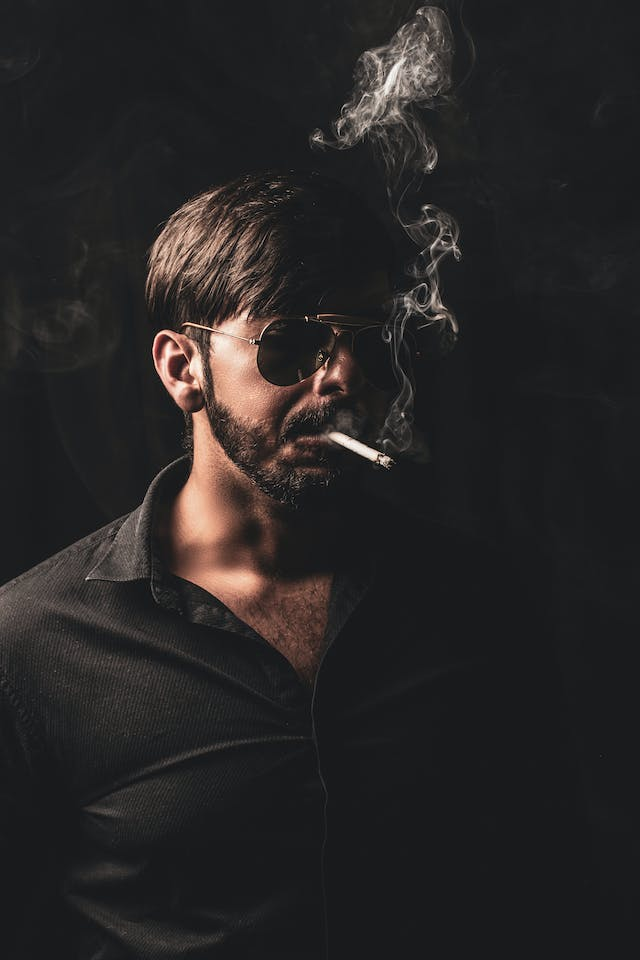Cigarette: (327, 430, 397, 472)
